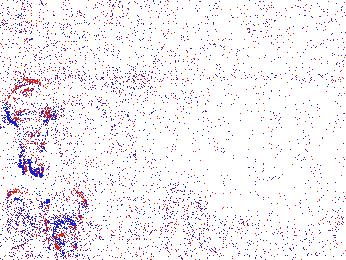flame jellyfish: (5, 83, 63, 178), (35, 197, 88, 251), (6, 189, 44, 241)
